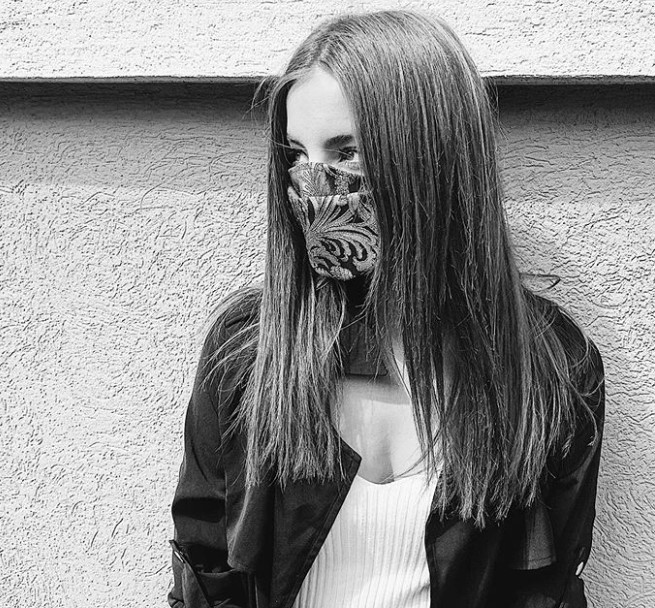face_with_mask: (269, 8, 486, 280)
